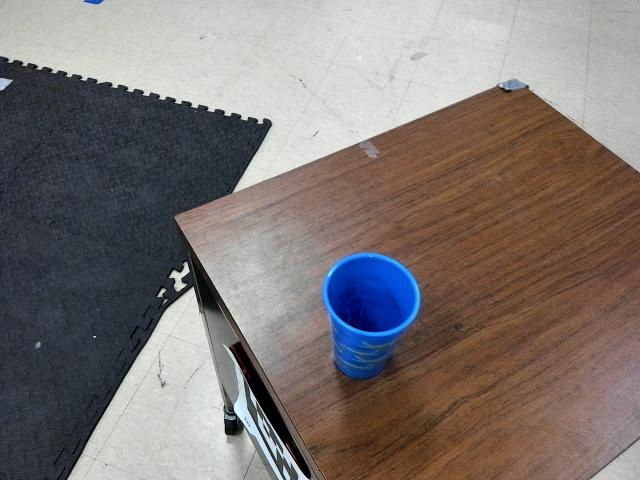water_cup: (311, 245, 426, 390)
